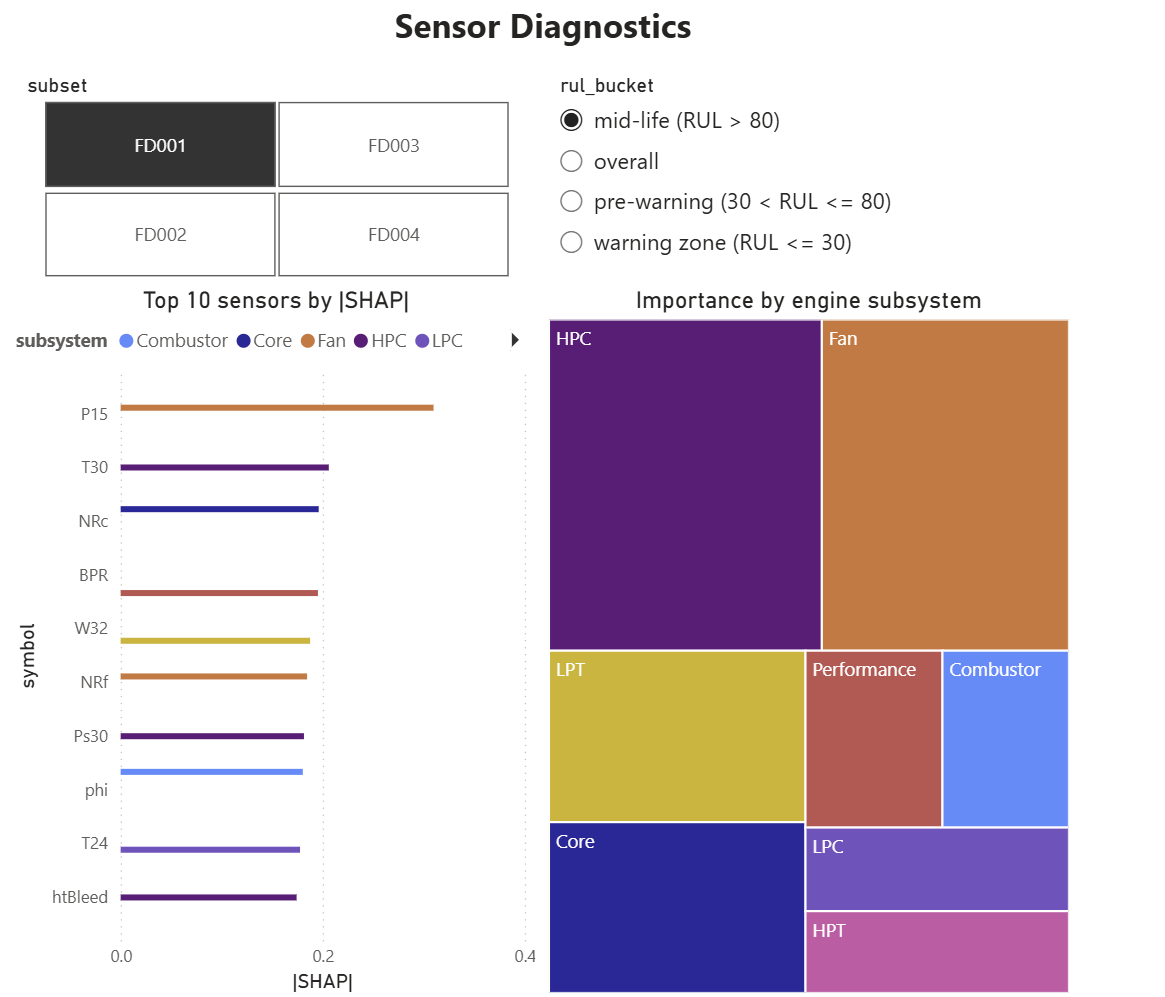

Layout of this report page (visuals, bound fields, positions):
{"tool":"powerbi","page":{"name":"Sensor Diagnostics","canvas":[1280,720],"ordinal":2},"visuals":[{"type":"textbox","box":[9.8,0,765.2,51.1],"z":0},{"type":"slicer","fields":{"Values":["subsets.subset"]},"box":[9.7,51.2,382.5,157.2],"z":1000},{"type":"slicer","title":"warning zone (RUL <= 30)","fields":{"Values":["feature_importance.rul_bucket"]},"box":[392.2,51.2,382.5,157.2],"z":2000},{"type":"clusteredBarChart","title":"Top 10 sensors by |SHAP|","fields":{"Category":["feature_importance.symbol"],"Y":["Sum(feature_importance.total_abs_shap)"],"Series":["feature_importance.subsystem"]},"box":[9.7,208.5,382.5,511.5],"z":2001},{"type":"treemap","title":"Importance by engine subsystem","fields":{"Group":["feature_importance.subsystem"],"Values":["Sum(feature_importance.total_abs_shap)"]},"box":[392.2,208.5,382.5,511.5],"z":2002}]}

Visuals, with their boxes on the page's 1280x720 design canvas (x1, y1, x2, y2). These are canvas units, not pixel positions in the 1165x997 screenshot, which may show the page scaled, cropped or inside an application window:
textbox: locate(10, 0, 775, 51)
slicer - subsets.subset: locate(10, 51, 392, 208)
"warning zone (RUL <= 30)" slicer: locate(392, 51, 775, 208)
"Top 10 sensors by |SHAP|" clusteredBarChart: locate(10, 208, 392, 720)
"Importance by engine subsystem" treemap: locate(392, 208, 775, 720)
